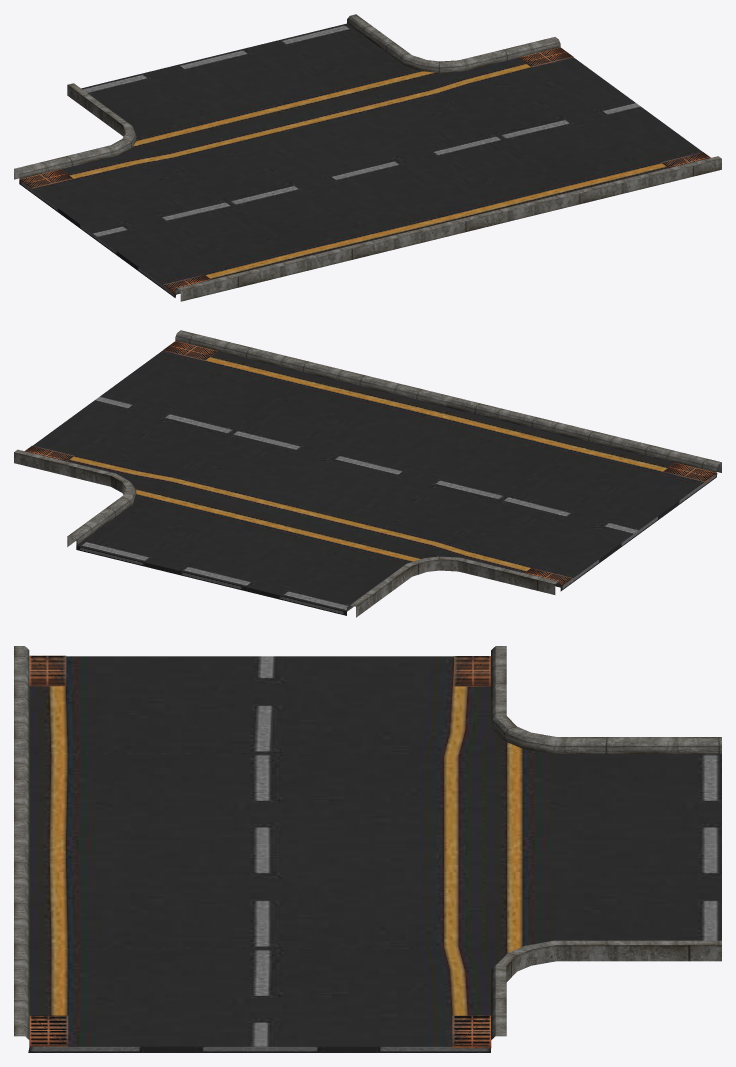
The model's file is T_cross.fbx.
The picture shows the model from 3 angles, top to bottom: view 1: azimuth 30°, elevation 25°; view 2: azimuth 150°, elevation 25°; view 3: azimuth 270°, elevation 25°; orthographic projection. The views are drawn at different scales.
Parts seen in each view (by area): view 1: Crossroad_T_Road, Crossroad_T_Sidewalk, Metal_Grid, Metal_Grid1; view 2: Crossroad_T_Road, Crossroad_T_Sidewalk, Metal_Grid1, Metal_Grid; view 3: Crossroad_T_Road, Crossroad_T_Sidewalk, Metal_Grid, Metal_Grid1.
Boxes of the visible parts, box(x1,y1,x2,y2) form: Crossroad_T_Road: box(19, 23, 702, 297); Crossroad_T_Sidewalk: box(14, 14, 721, 301); Metal_Grid: box(163, 47, 573, 294); Metal_Grid1: box(19, 152, 710, 188); Crossroad_T_Road: box(33, 351, 717, 615); Crossroad_T_Sidewalk: box(14, 330, 721, 617); Metal_Grid1: box(162, 341, 572, 586); Metal_Grid: box(24, 445, 716, 482); Crossroad_T_Road: box(28, 656, 721, 1052); Crossroad_T_Sidewalk: box(14, 646, 721, 1039); Metal_Grid: box(29, 655, 491, 1048); Metal_Grid1: box(29, 656, 490, 1046).
Size of the model in its own units: 4 by 0.08 by 3.07.
